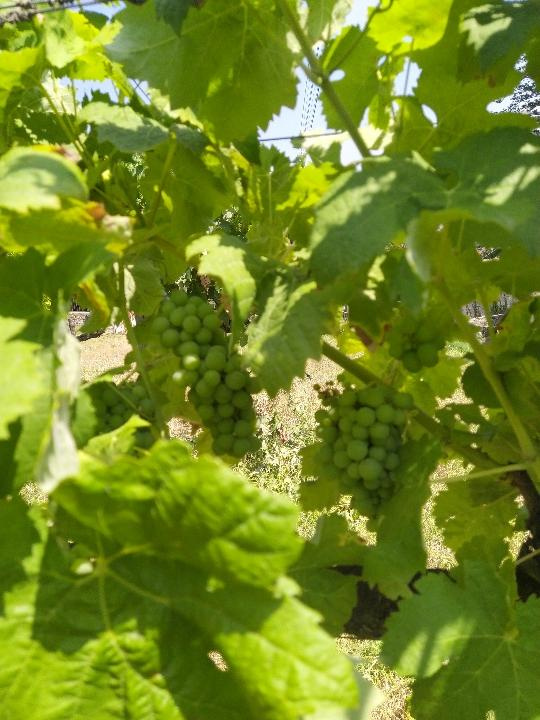grape: (149, 287, 264, 460), (314, 385, 417, 518)
